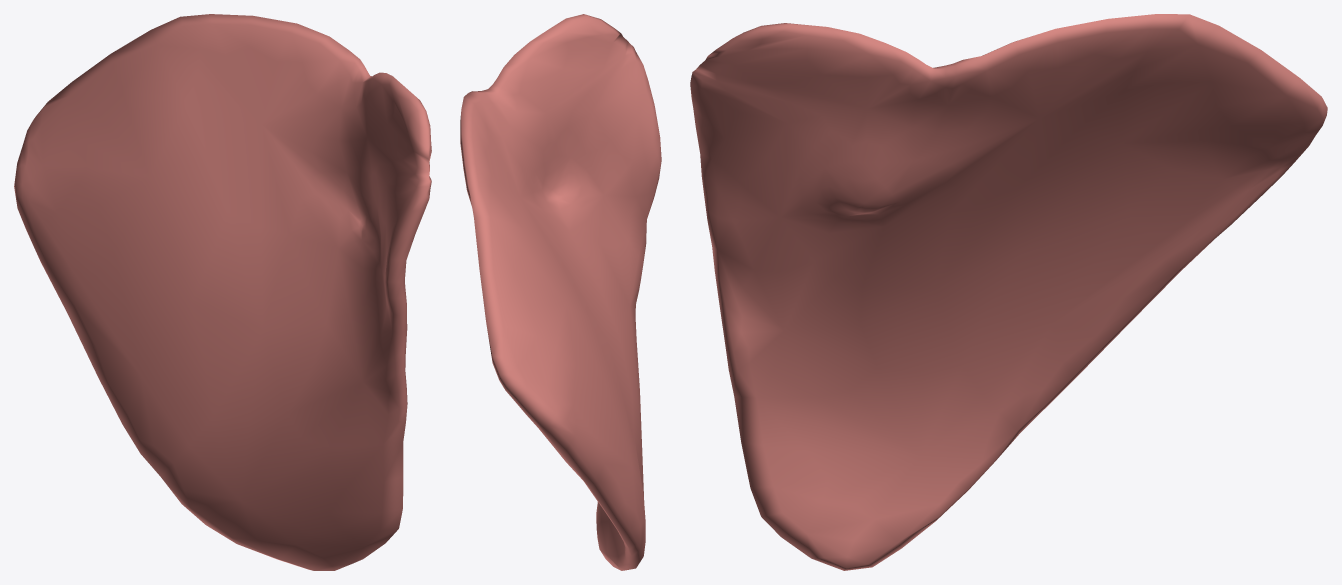
The picture shows the model from 3 angles, left to right: view 1: azimuth 30°, elevation 25°; view 2: azimuth 150°, elevation 25°; view 3: azimuth 270°, elevation 25°; orthographic projection. The views are drawn at different scales.
Visible parts, largest first — view 1: ZA_adf747adb5332474; view 2: ZA_adf747adb5332474; view 3: ZA_adf747adb5332474.
Part boxes in pixels (x1=…): ZA_adf747adb5332474: x1=14, y1=14, x2=431, y2=570; ZA_adf747adb5332474: x1=460, y1=14, x2=661, y2=570; ZA_adf747adb5332474: x1=690, y1=14, x2=1327, y2=570.
Size of the model in its own units: 0.00635 by 0.0134 by 0.0132.
